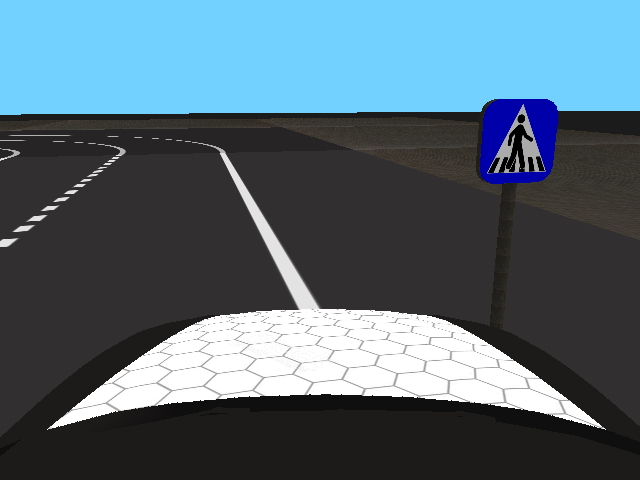pedestrian_cross: (478, 99, 558, 183)
